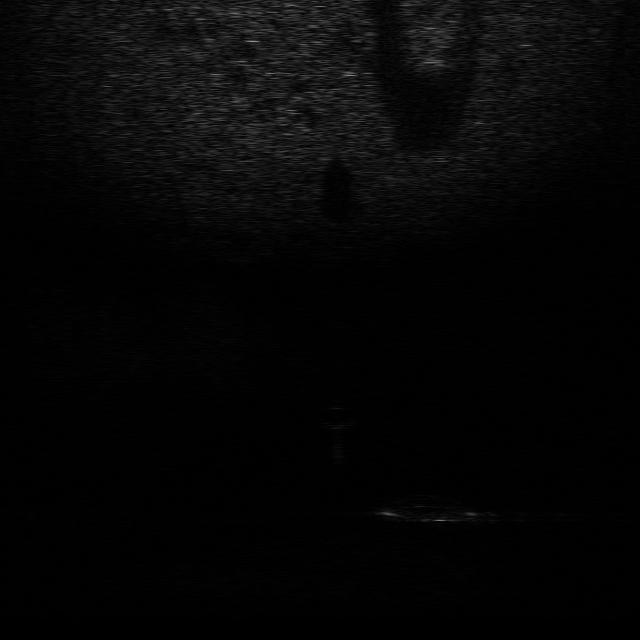ball: (310, 402, 361, 434)
tyre: (378, 488, 492, 524)
